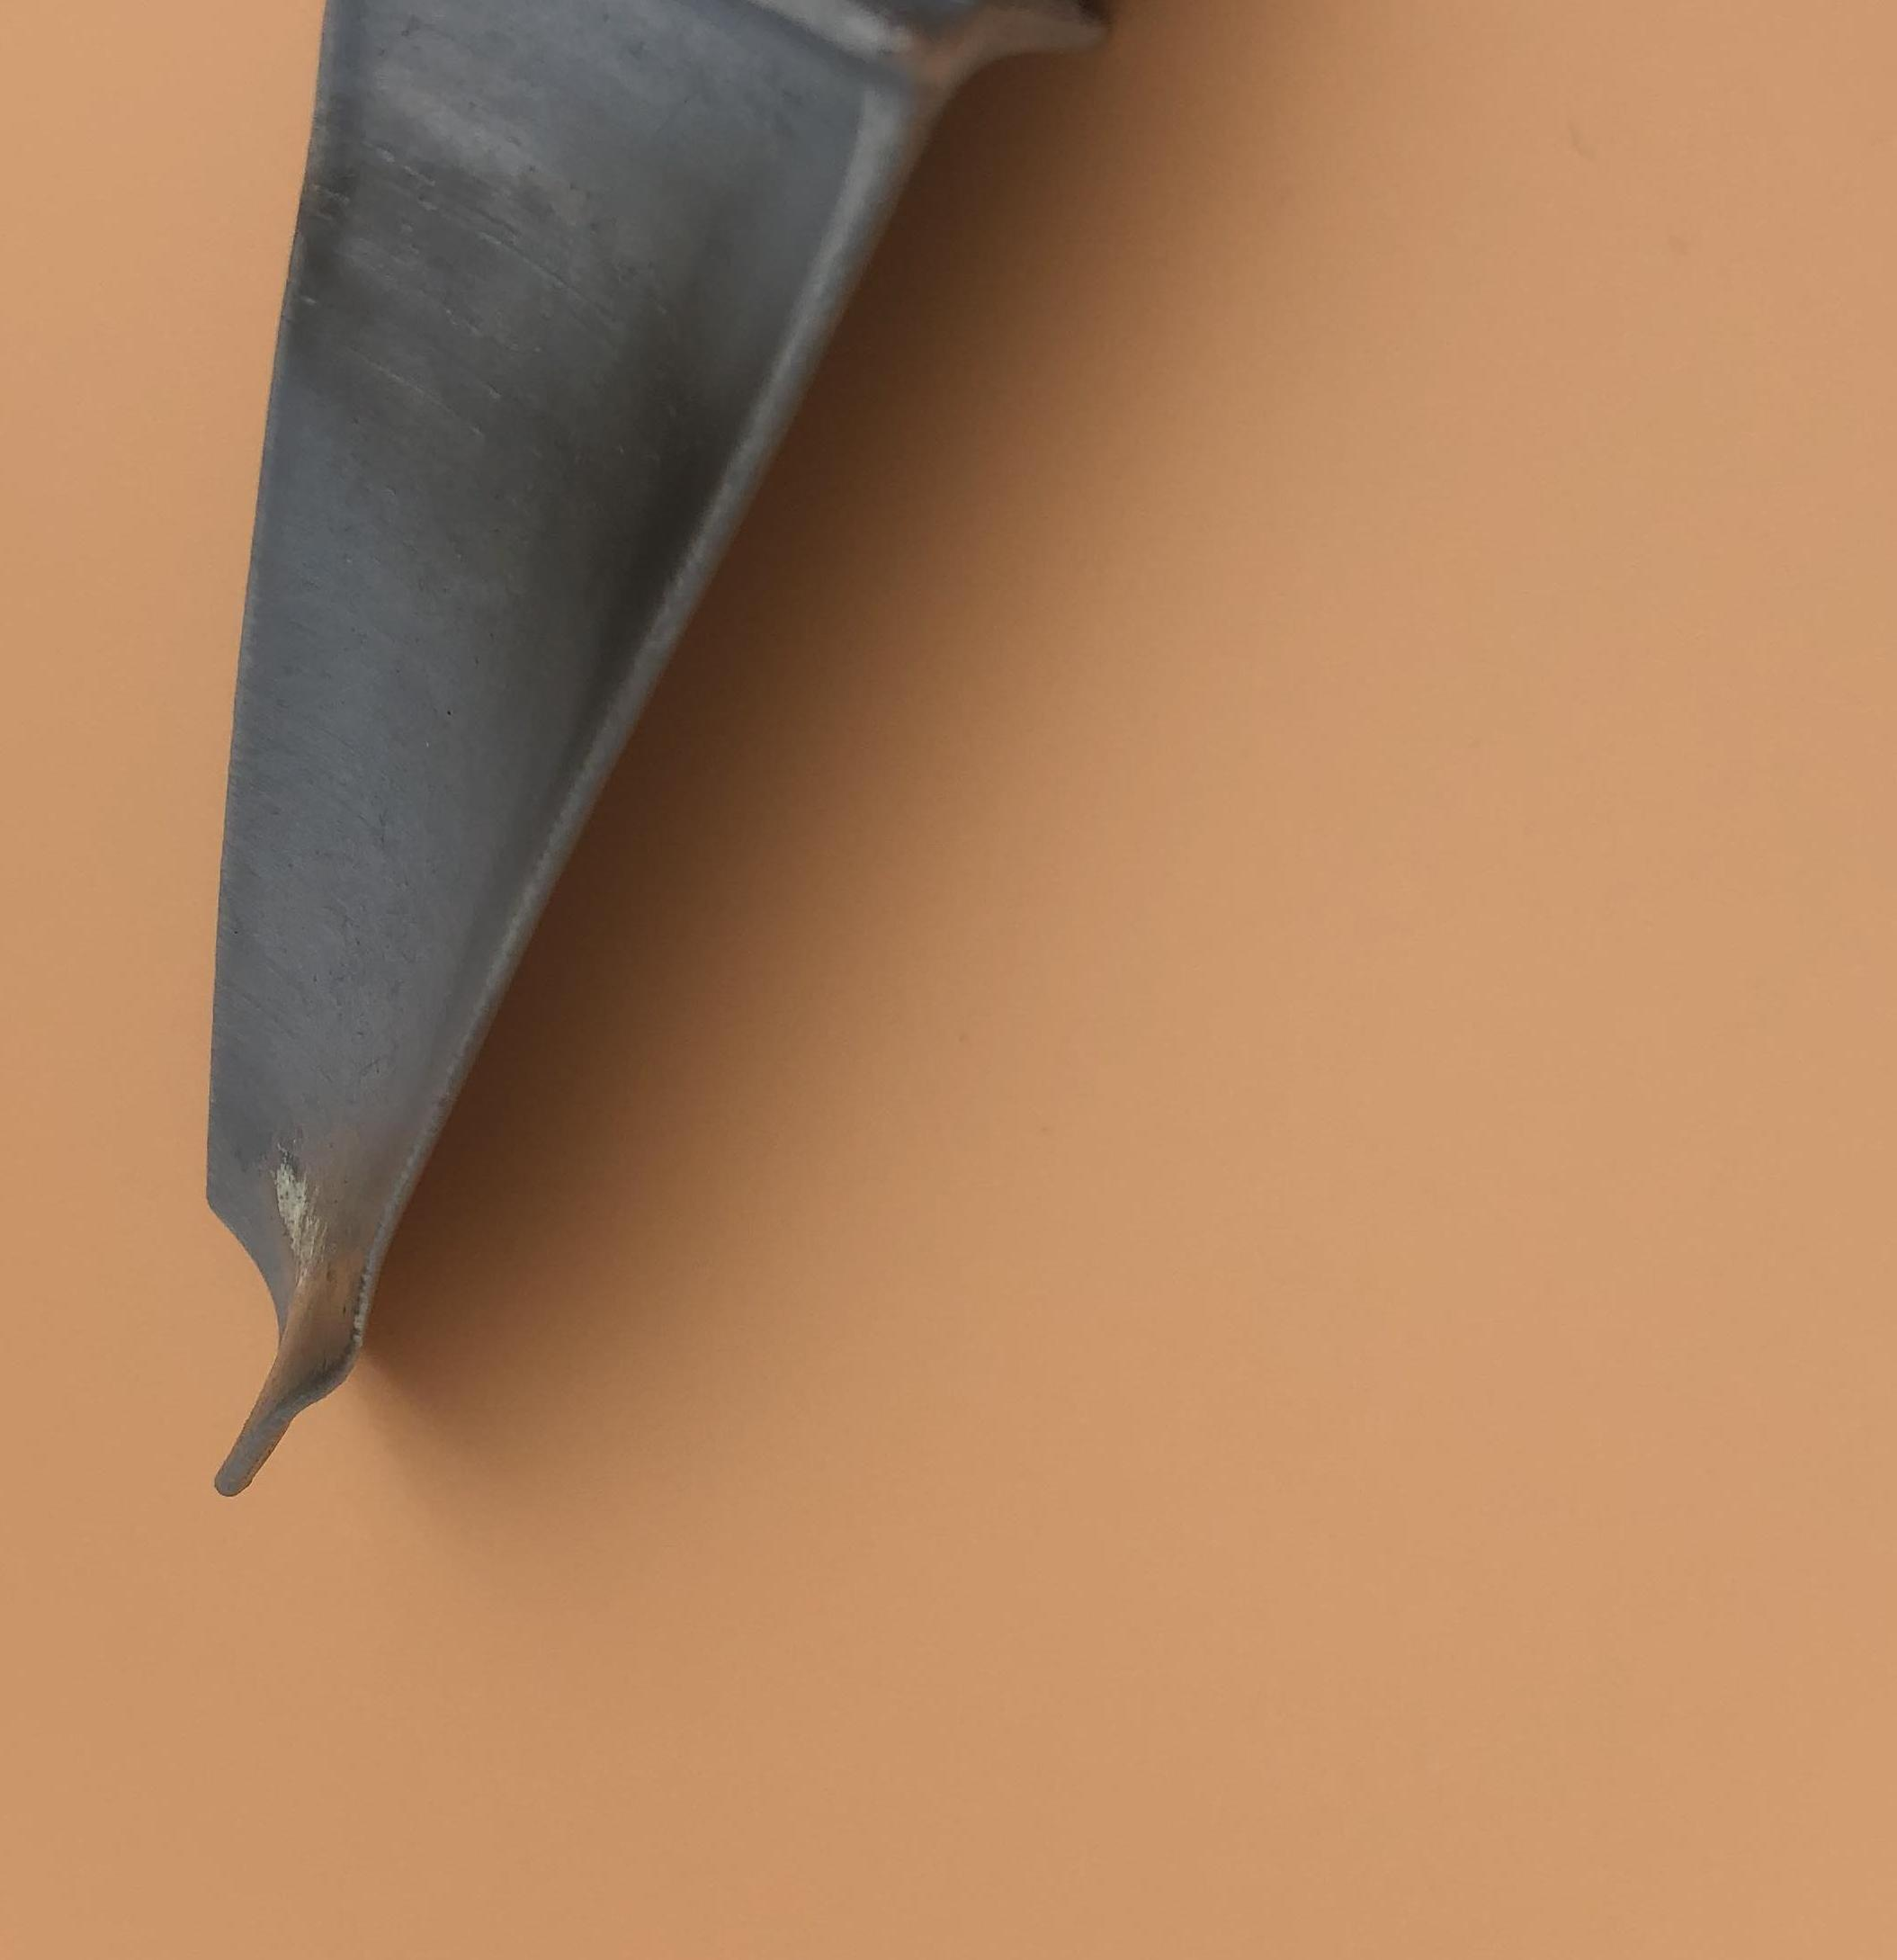ablation: (483, 313, 698, 709), (268, 1185, 376, 1384)
